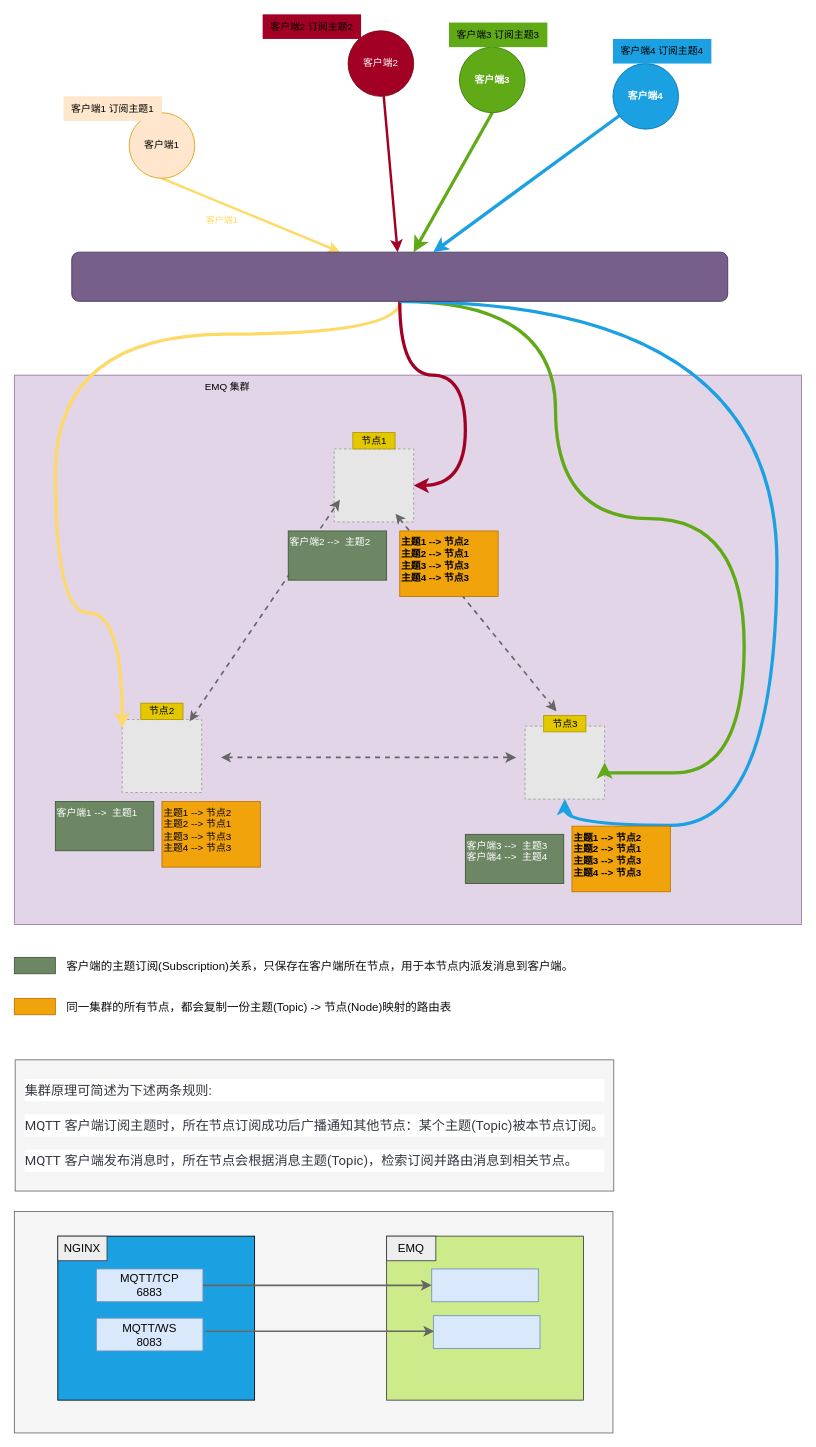
Some shapes in this 816 by 1447 pixel diagram are drawn without their labels. Grey dashed boxes stand in for pictures. Here are the shapes that lost their labels. From the top down, the centre of each, then its label:
At pixel 399 276: "负载均衡".
At pixel 484 1285: "MQTT/TCP 1883".
At pixel 486 1331: "MQTT/WS 8183".
